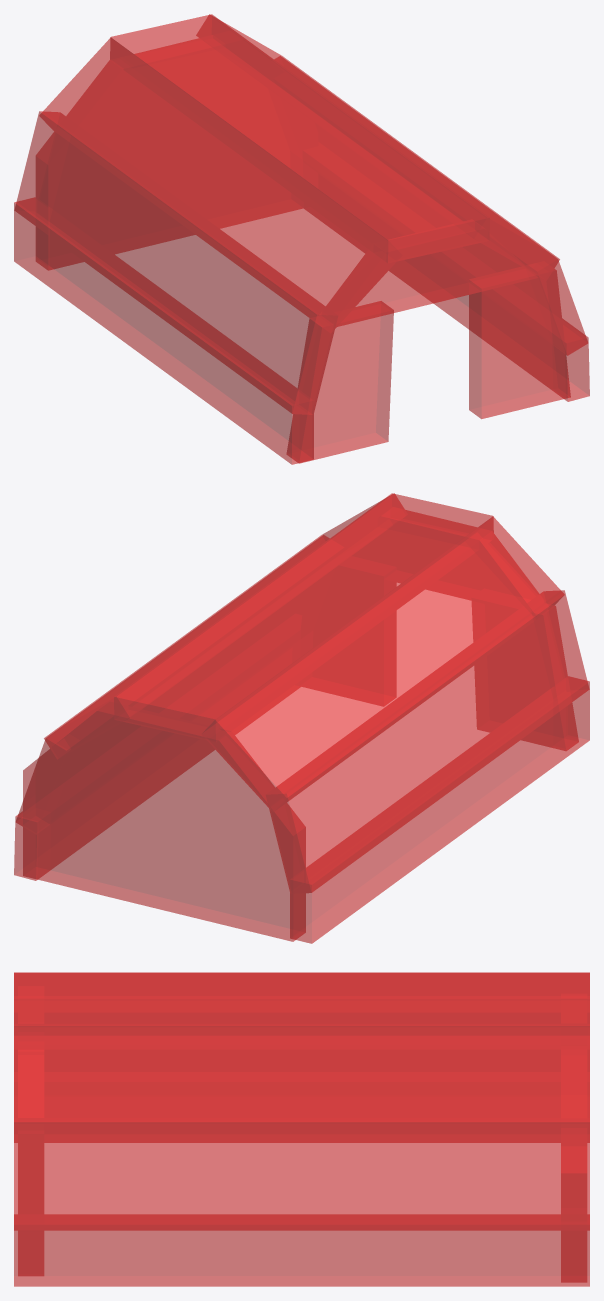
Rendered from SM_Bld_Tent_02_C_Collision.fbx.
3 renders of one model, top to bottom at view 1: azimuth 30°, elevation 25°; view 2: azimuth 150°, elevation 25°; view 3: azimuth 270°, elevation 25°, orthographic. The views are drawn at different scales.
Parts seen in each view (by area): view 1: SM_Bld_Tent_02_C_Collision; view 2: SM_Bld_Tent_02_C_Collision; view 3: SM_Bld_Tent_02_C_Collision.
Boxes of the visible parts, x1,y1,x2,y2 form: SM_Bld_Tent_02_C_Collision: [14, 14, 589, 464]; SM_Bld_Tent_02_C_Collision: [14, 493, 589, 943]; SM_Bld_Tent_02_C_Collision: [14, 972, 589, 1286].
Size of the model in its own units: 544 by 358 by 878.
